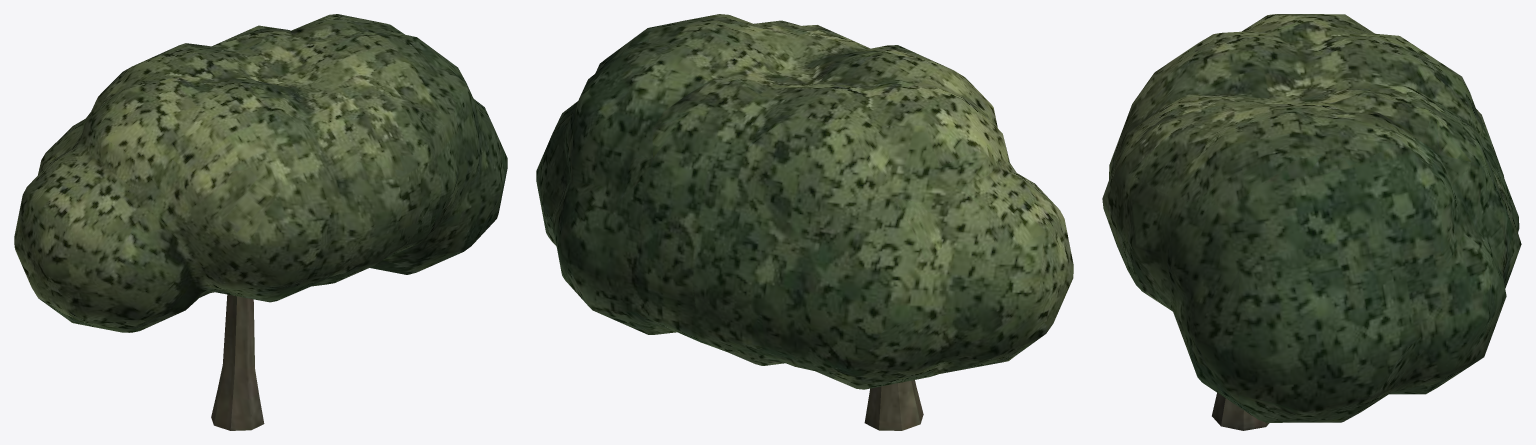
The model's file is tree_big_far.glb.
3 views of the same model, side by side, from view 1: azimuth 30°, elevation 25°; view 2: azimuth 150°, elevation 25°; view 3: azimuth 270°, elevation 25° (orthographic). The views are drawn at different scales.
Visible parts, largest first — view 1: tree_big_lod1; view 2: tree_big_lod1; view 3: tree_big_lod1.
Boxes of the visible parts, left/top/right/bottom form: tree_big_lod1: left=14, top=14, right=507, bottom=430; tree_big_lod1: left=536, top=14, right=1073, bottom=430; tree_big_lod1: left=1102, top=14, right=1521, bottom=430.
Size of the model in its own units: 3.61 by 2.52 by 2.48.
Materials: 1 (1 with a texture image).
